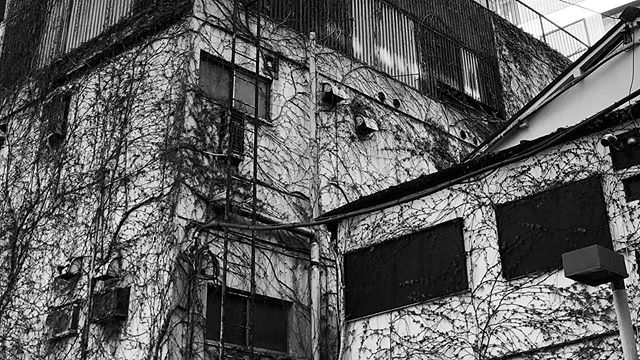building: (1, 1, 640, 360)
